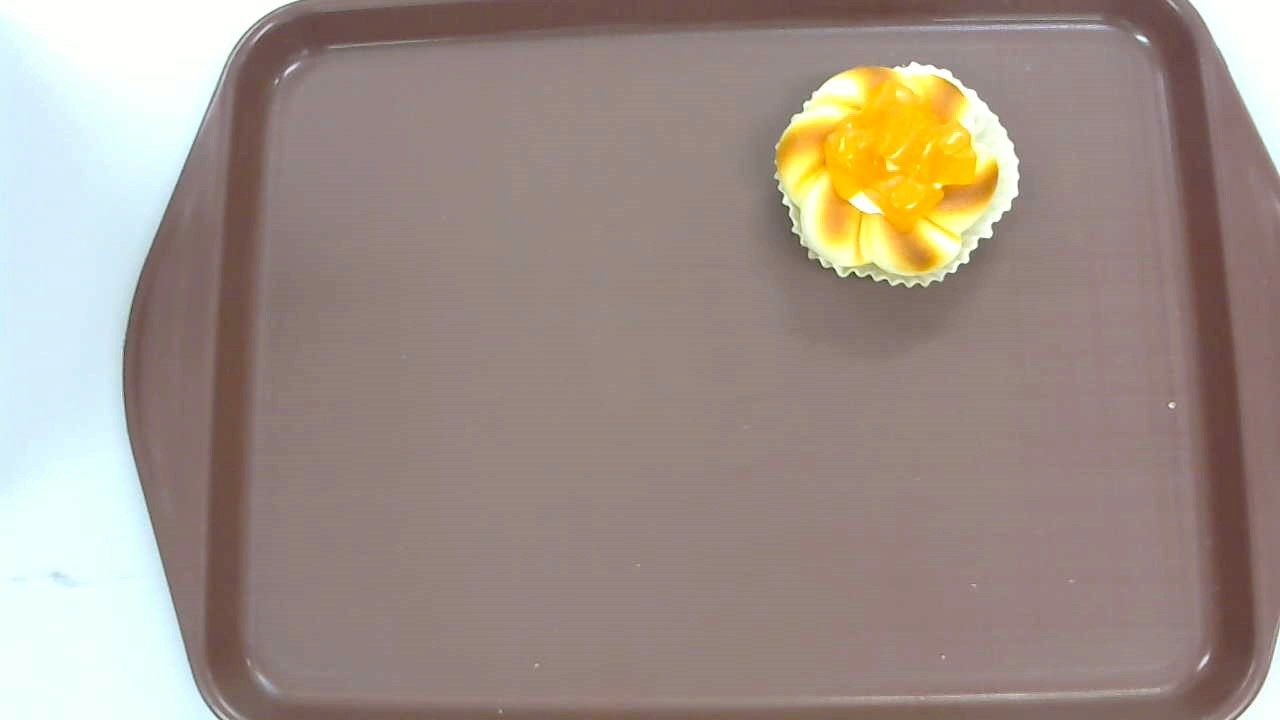mango tart: (772, 60, 1020, 289)
